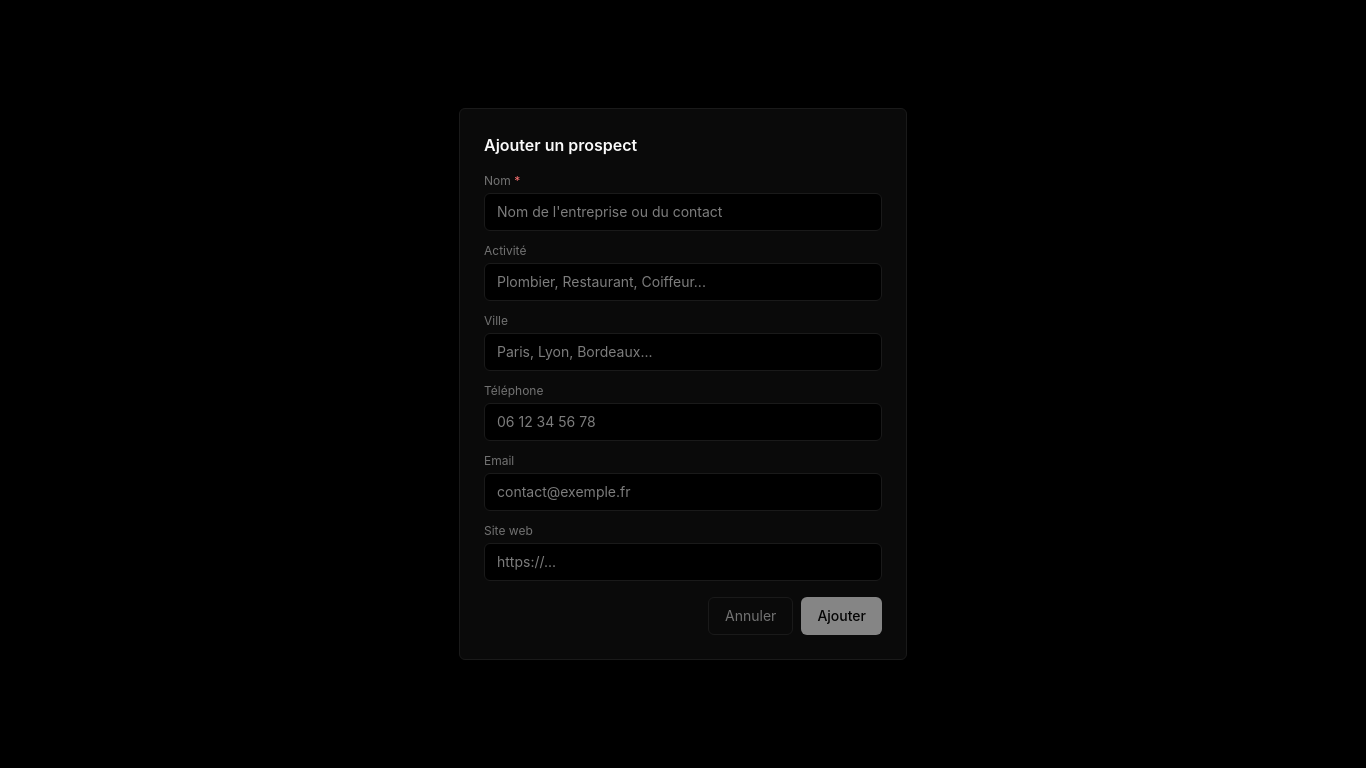
Test: AddProspectModal › shows inline error when API returns 409
The width and height of the screenshot is (1366, 768).
Type "Dupont Plomberie" into the field with placeholder "Nom de l'entreprise ou du contact" at (683, 212), box 484,193 -> 882,231
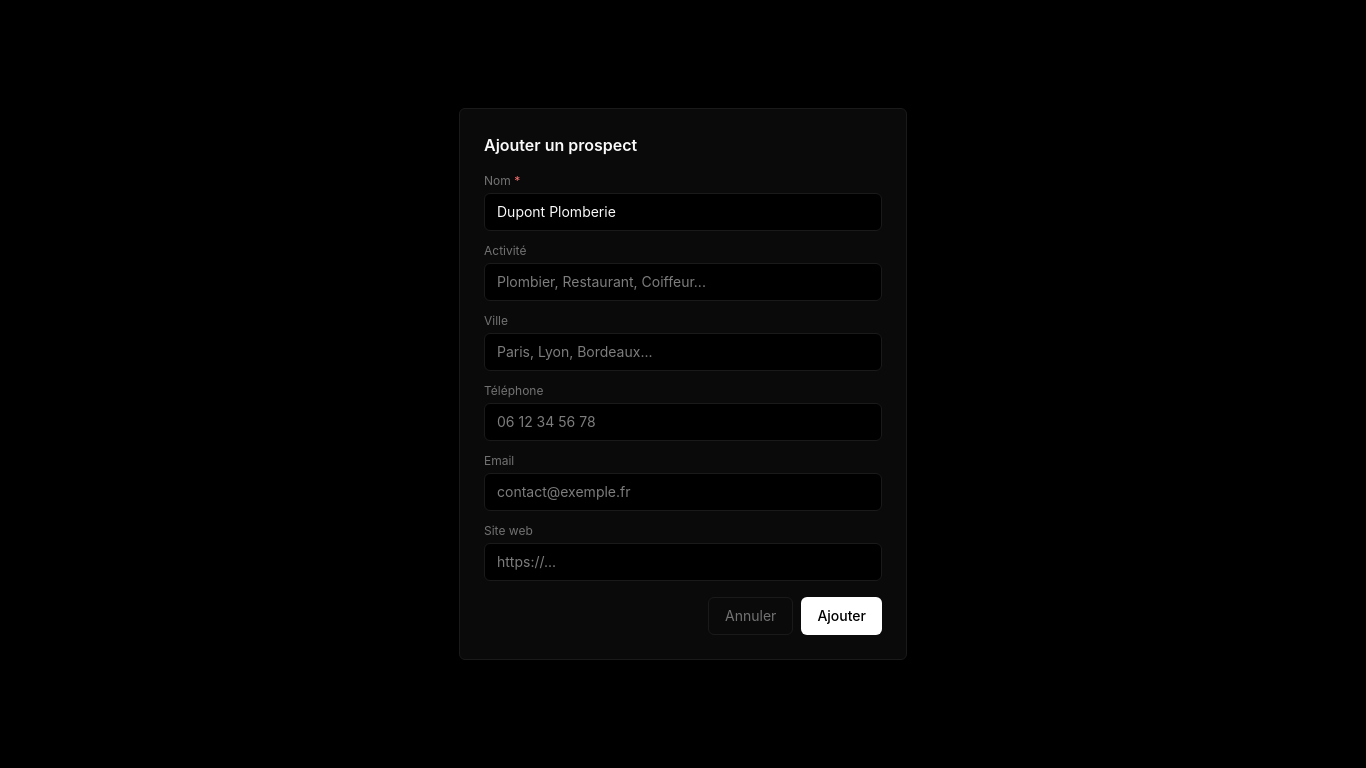
Click the button "Ajouter" at (842, 616), box 801,597 -> 882,635
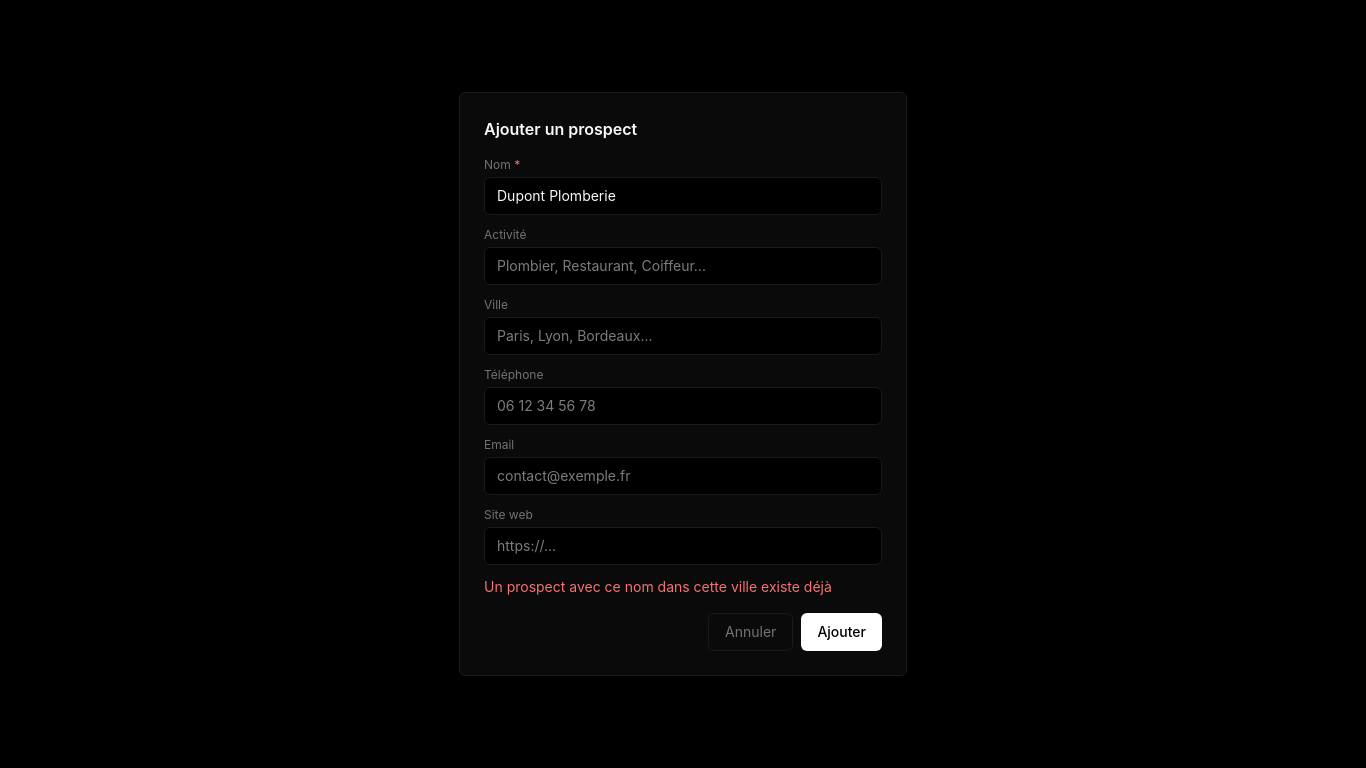
Expected: the text "Un prospect avec ce nom dans cette ville existe déjà" is shown, 484,577 -> 882,597
